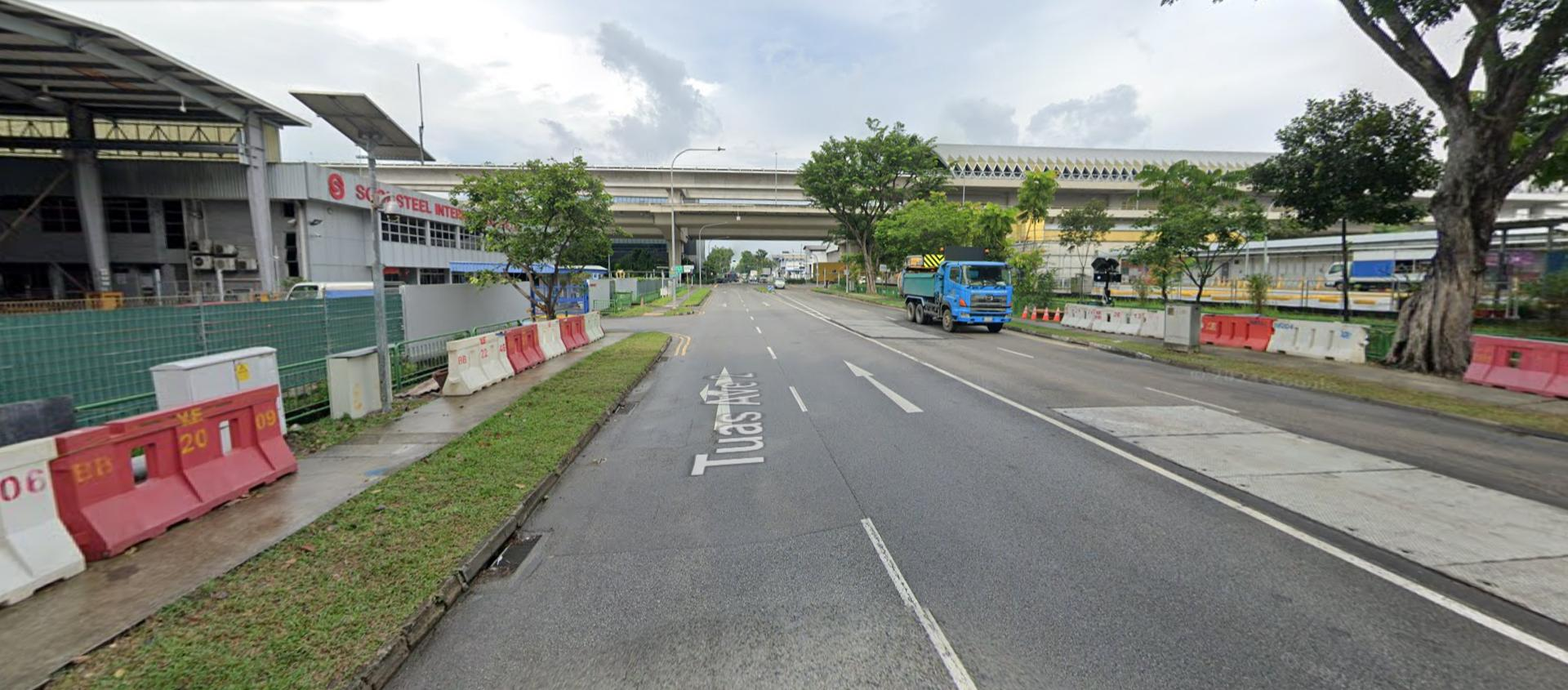normal: (488, 534, 543, 574)
